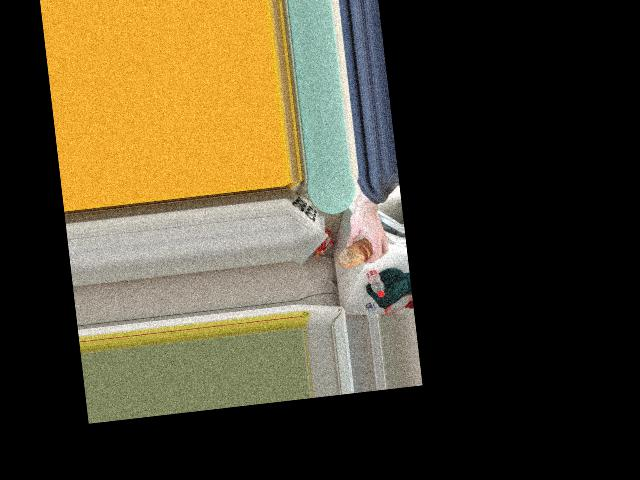sweet_potato: (342, 237, 373, 268)
